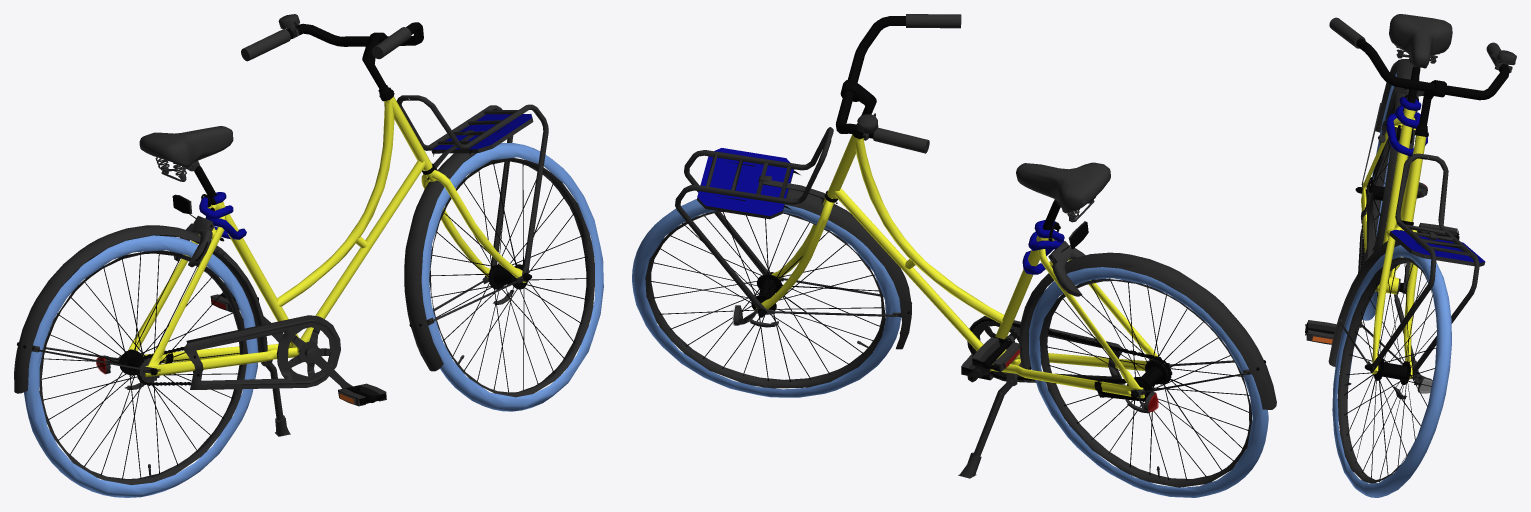
File: bici_optimizada.glb
3 views of the same model, side by side, from view 1: azimuth 30°, elevation 25°; view 2: azimuth 150°, elevation 25°; view 3: azimuth 270°, elevation 25° (orthographic). The views are drawn at different scales.
Parts seen in each view (by area): view 1: lock_cable002; view 2: lock_cable002; view 3: lock_cable002.
Boxes of the visible parts, x1,y1,x2,y2 form: lock_cable002: (14,14,603,497); lock_cable002: (632,14,1276,497); lock_cable002: (1305,14,1516,497).
Size of the model in its own units: 1.82 by 1.17 by 0.5763.
